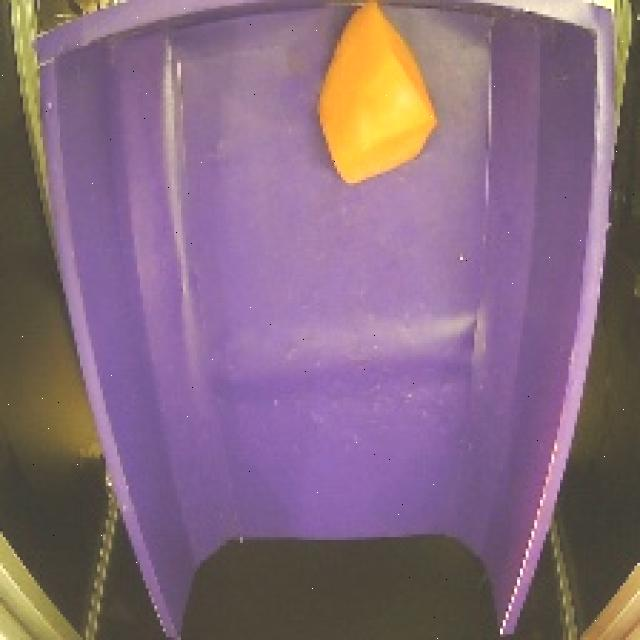carrots: (306, 0, 443, 205)
